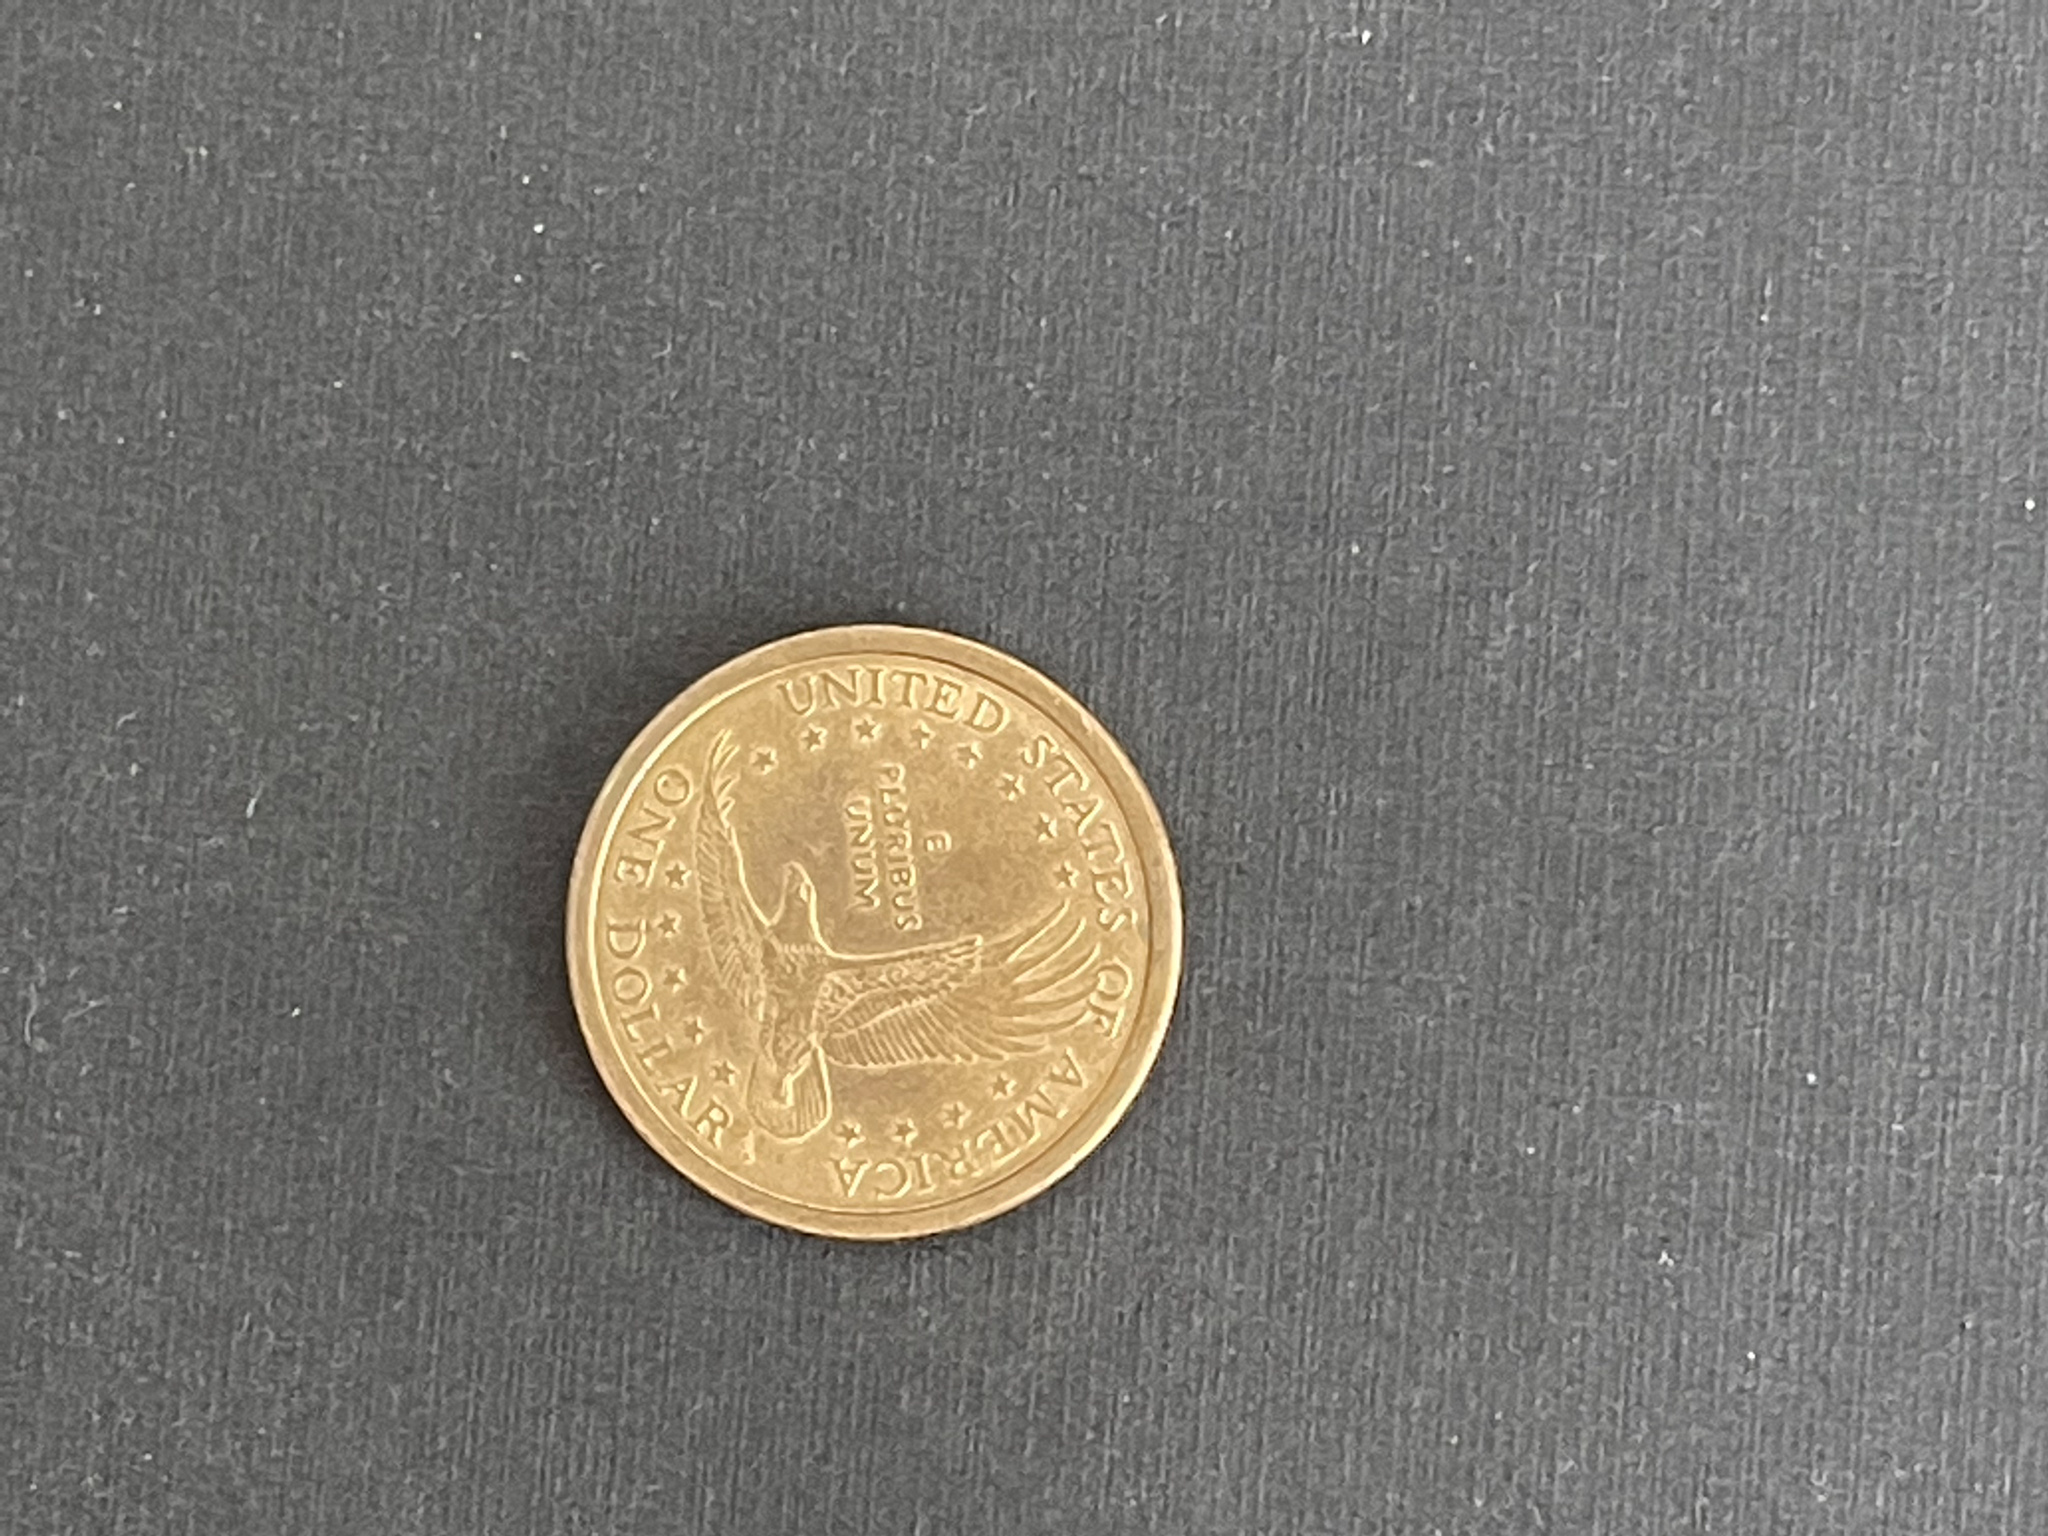1 dollar: (558, 613, 1192, 1252)
